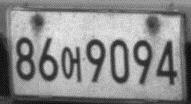0: (109, 38, 131, 84)
4: (155, 38, 178, 87)
6: (37, 37, 59, 83)
8: (14, 36, 35, 81)
9: (84, 38, 107, 84), (132, 39, 152, 86)
어: (60, 45, 83, 84)
